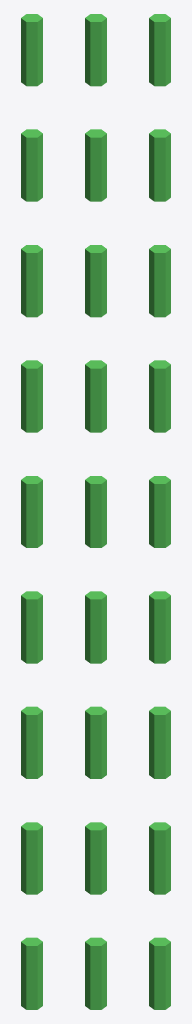
Rendered from pole-green.gltf.
3 views of the same model, side by side, from view 1: azimuth 30°, elevation 25°; view 2: azimuth 150°, elevation 25°; view 3: azimuth 330°, elevation 25° (orthographic).
Parts seen in each view (by area): view 1: Cylinder; view 2: Cylinder; view 3: Cylinder.
Part boxes in pixels (box(x1,y1,x2,y2)): Cylinder: box(21, 14, 42, 1009); Cylinder: box(85, 14, 106, 1009); Cylinder: box(149, 14, 170, 1009).
Bounding box in the file's own units: 0.05 × 2.85 × 0.0577.
